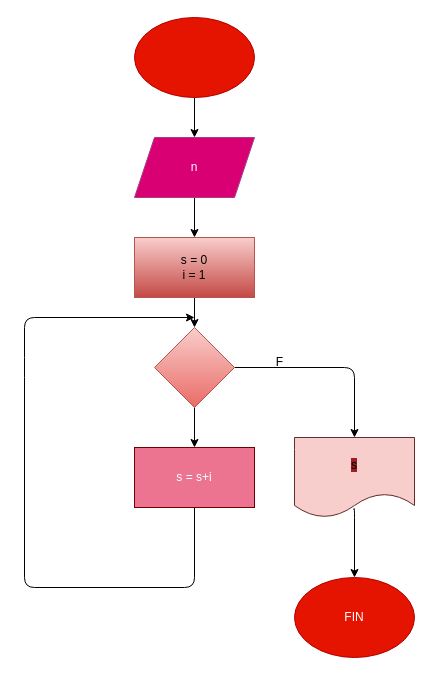
Image size: 432x675. Some labels were removed from this diagram. Each missing label, with the box of its shape:
i< = n: (154, 326, 234, 408)
INICIO: (134, 16, 254, 98)
